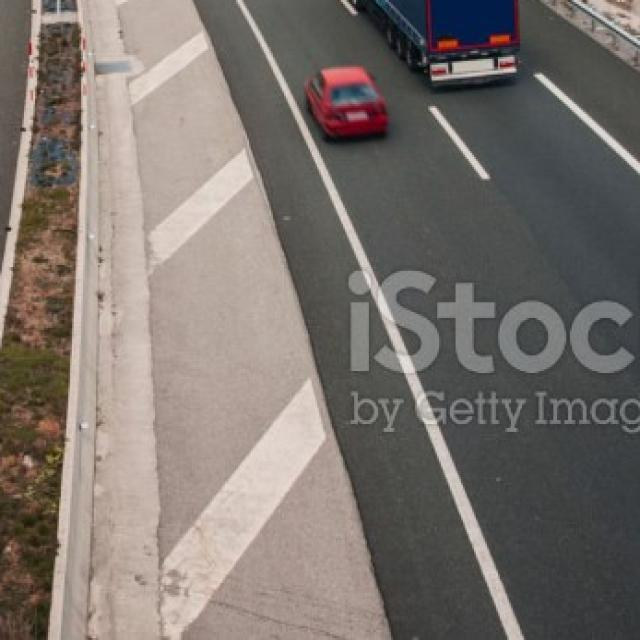car: (301, 59, 391, 147)
van: (323, 0, 522, 96)
